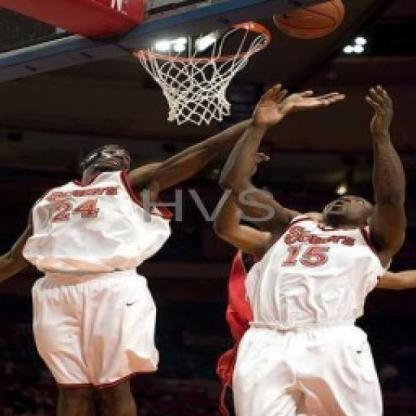basketball: (268, 0, 351, 45)
